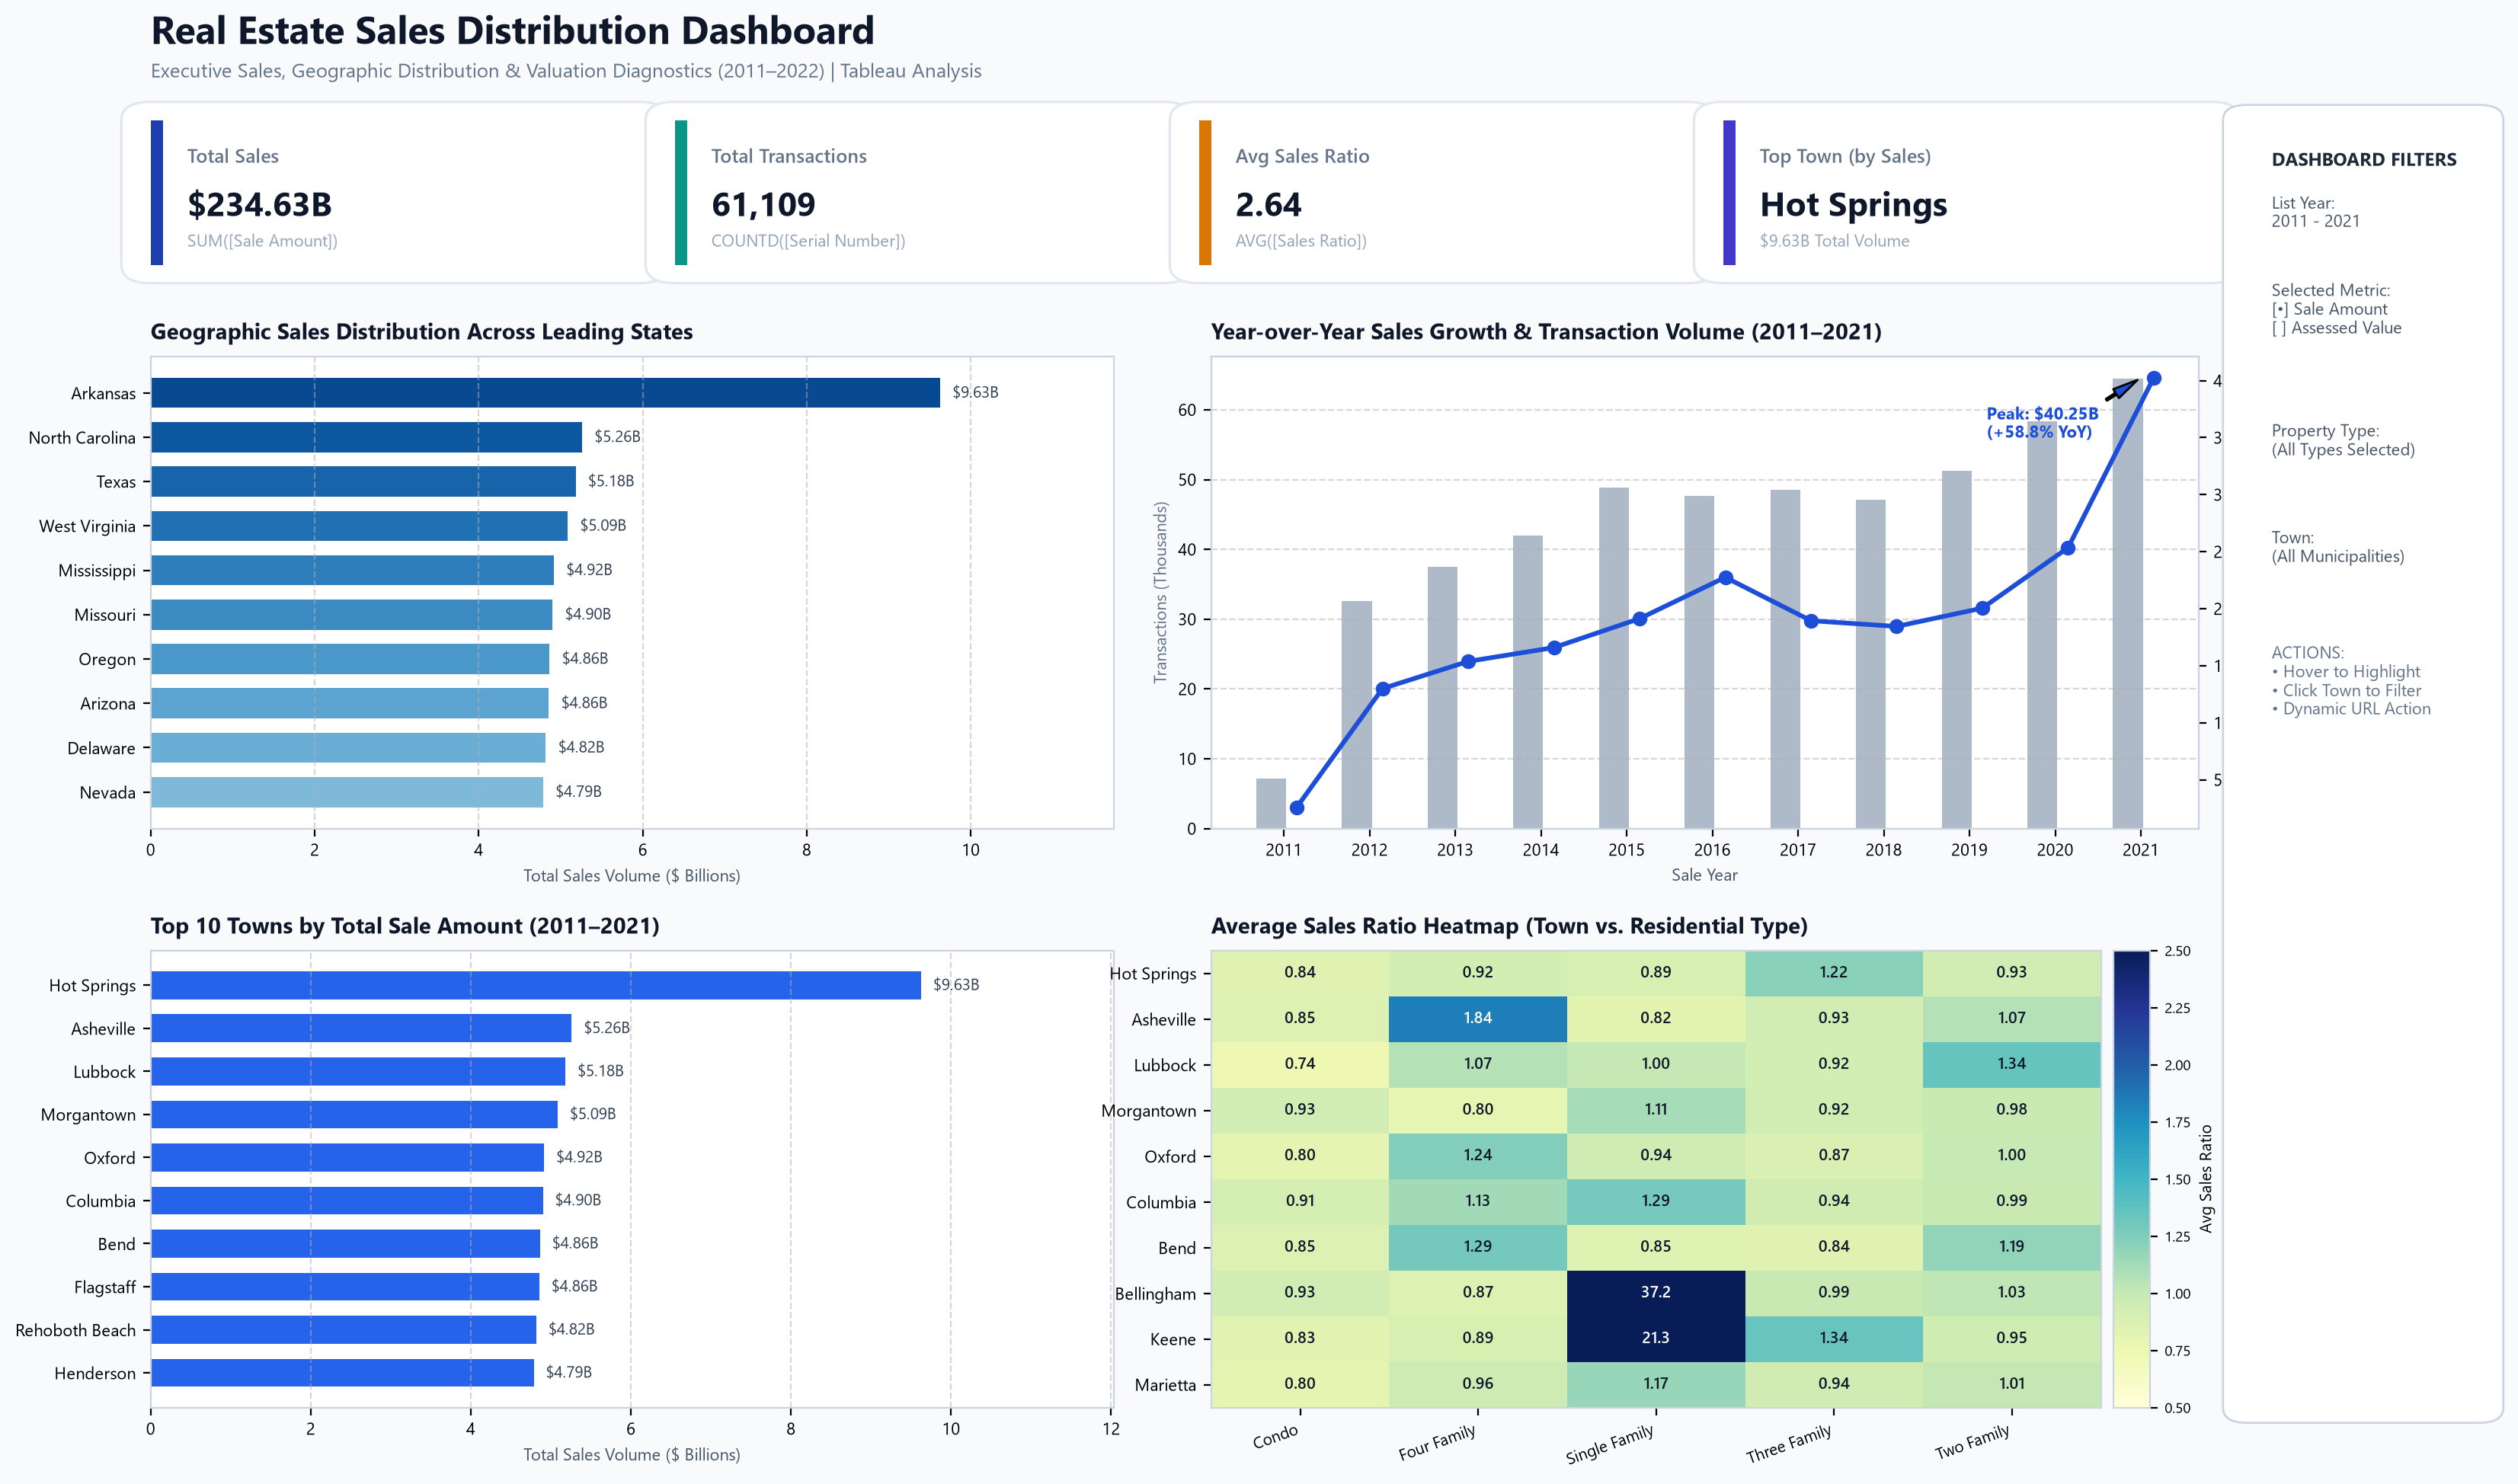

The dashboard page shown, as its layout file describes it:
{"tool":"tableau","page":{"name":"Real Estate Sales Distribution Dashboard","canvas":[1000,1000],"units":"permille","ordinal":2},"visuals":[{"type":"title","box":[4.8,8.2,990.3,46.4]},{"type":"worksheet","title":" Total Sales","mark":"Automatic","box":[4.8,54.6,223.4,157.7]},{"type":"worksheet","title":" Total Transactions","mark":"Automatic","box":[228.3,54.6,205.7,157.7]},{"type":"worksheet","title":"Avg Sales Ratio","mark":"Automatic","box":[434,54.6,232.3,157.7]},{"type":"worksheet","title":"Top Town","mark":"Text","box":[666.3,54.6,232.3,157.7]},{"type":"filter","title":"01. Town Sales Overview","param":"[federated.1p2w3xb05bzdm717pvqak1xr3v6i].[none:Calculation_0759502720811008:nk]","box":[898.6,54.6,96.6,62.8]},{"type":"filter","title":"01. Town Sales Overview","param":"[federated.1p2w3xb05bzdm717pvqak1xr3v6i].[none:Calculation_1654503807426560:qk]","box":[898.6,117.4,96.6,75.2]},{"type":"filter","title":"01. Town Sales Overview","param":"[federated.1p2w3xb05bzdm717pvqak1xr3v6i].[none:Town:nk]","box":[898.6,192.6,96.6,135.9]},{"type":"worksheet","title":"06. Geographic Sales Map","mark":"Multipolygon","box":[4.8,212.3,446.9,310.9]},{"type":"worksheet","title":"02. Year-over-Year Sales Trends","mark":"Line","rows":["Serial Number","Calculation_0759502741258241"],"cols":["Calculation_1654503807426560"],"box":[451.7,212.3,446.9,310.9]},{"type":"legend","title":"01. Town Sales Overview","param":"[federated.1p2w3xb05bzdm717pvqak1xr3v6i].[none:Calculation_1654503807791105:nk]","box":[898.6,328.5,96.6,95.8]},{"type":"parameter","param":"[Parameters].[Parameter 1]","box":[898.6,424.3,96.6,57.7]},{"type":"legend","title":"06. Geographic Sales Map","param":"[federated.1p2w3xb05bzdm717pvqak1xr3v6i].[sum:Sale Amount:qk]","box":[898.6,482,96.6,75.2]},{"type":"worksheet","title":"01. Town Sales Overview","mark":"Bar","rows":["Town"],"cols":["Sale Amount"],"box":[4.8,523.2,446.9,468.6]},{"type":"worksheet","title":"04. Sales Ratio Heatmap","mark":"Square","rows":["Town"],"cols":["Residential Type"],"box":[451.7,523.2,446.9,468.6]},{"type":"legend","title":"04. Sales Ratio Heatmap","param":"[federated.1p2w3xb05bzdm717pvqak1xr3v6i].[avg:Sales Ratio:qk]","box":[898.6,557.2,96.6,75.2]},{"type":"legend","title":"02. Year-over-Year Sales Trends","param":"[federated.1p2w3xb05bzdm717pvqak1xr3v6i].[:Measure Names]","box":[898.6,632.3,96.6,74.2]}]}

Visuals, with their boxes on the dashboard's canvas, which has no fixed pixel size, in thousandths of its width and height (x1, y1, x2, y2). These are canvas units, not pixel positions in the 2518x1484 screenshot, which may show the page scaled, cropped or inside an application window:
title: crop(5, 8, 995, 55)
" Total Sales" worksheet: crop(5, 55, 228, 212)
" Total Transactions" worksheet: crop(228, 55, 434, 212)
"Avg Sales Ratio" worksheet: crop(434, 55, 666, 212)
"Top Town" worksheet (Text marks): crop(666, 55, 899, 212)
"01. Town Sales Overview" filter: crop(899, 55, 995, 117)
"01. Town Sales Overview" filter: crop(899, 117, 995, 193)
"01. Town Sales Overview" filter: crop(899, 193, 995, 328)
"06. Geographic Sales Map" worksheet (Multipolygon marks): crop(5, 212, 452, 523)
"02. Year-over-Year Sales Trends" worksheet (Line marks): crop(452, 212, 899, 523)
"01. Town Sales Overview" legend: crop(899, 328, 995, 424)
parameter: crop(899, 424, 995, 482)
"06. Geographic Sales Map" legend: crop(899, 482, 995, 557)
"01. Town Sales Overview" worksheet (Bar marks): crop(5, 523, 452, 992)
"04. Sales Ratio Heatmap" worksheet (Square marks): crop(452, 523, 899, 992)
"04. Sales Ratio Heatmap" legend: crop(899, 557, 995, 632)
"02. Year-over-Year Sales Trends" legend: crop(899, 632, 995, 706)
